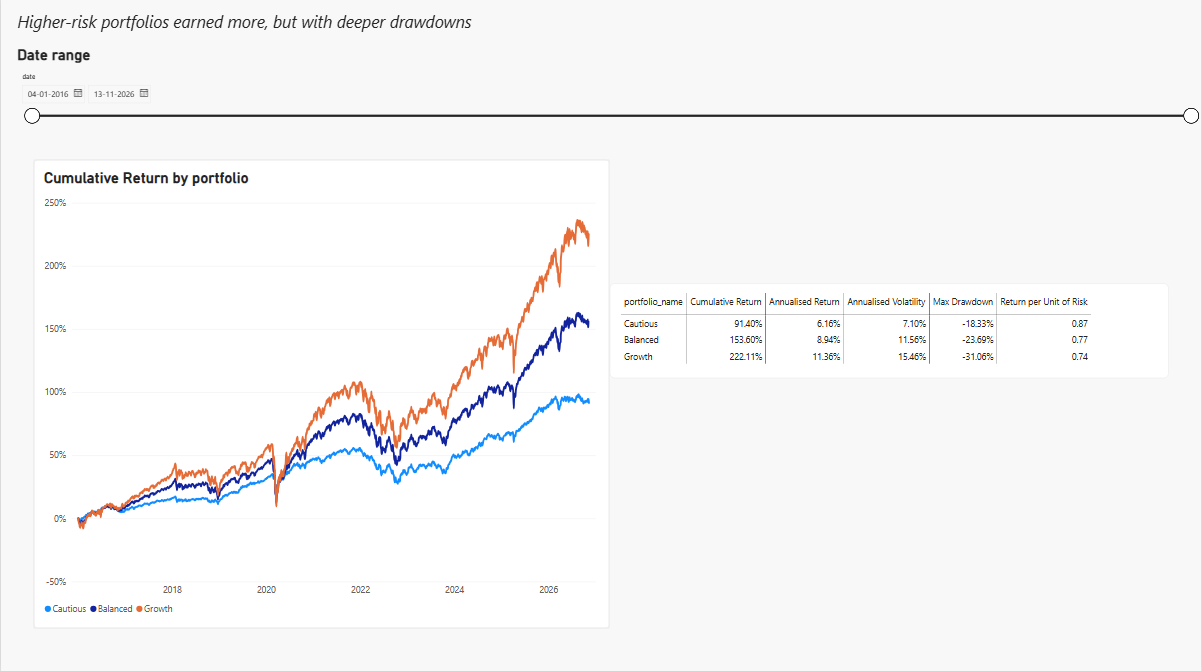

Layout of this report page (visuals, bound fields, positions):
{"tool":"powerbi","page":{"name":"Overview","canvas":[1920,1080],"ordinal":0},"visuals":[{"type":"lineChart","title":"Cumulative Return by portfolio","fields":{"Category":["dim_date.date"],"Series":["dim_portfolio.portfolio_name"],"Y":["_Measures.Cumulative Return"]},"box":[52,260,922,750],"z":0},{"type":"tableEx","fields":{"Values":["dim_portfolio.portfolio_name","_Measures.Cumulative Return","_Measures.Annualised Return","_Measures.Annualised Volatility","_Measures.Max Drawdown","_Measures.Return per Unit of Risk"]},"box":[974,458,894,152],"z":1},{"type":"slicer","title":"Date range","fields":{"Values":["dim_date.date"]},"box":[26,78,1894,148],"z":2},{"type":"textbox","box":[26,20,1122,58],"z":3}]}

Visuals, with their boxes in screenshot pixels (x1, y1, x2, y2), scaled from the page's 1920x1080 canvas onto the 1202x671 screenshot:
"Cumulative Return by portfolio" lineChart: [left=33, top=162, right=610, bottom=628]
tableEx - dim_portfolio.portfolio_name x _Measures.Cumulative Return: [left=610, top=285, right=1169, bottom=379]
"Date range" slicer: [left=16, top=48, right=1201, bottom=140]
textbox: [left=16, top=12, right=719, bottom=48]
